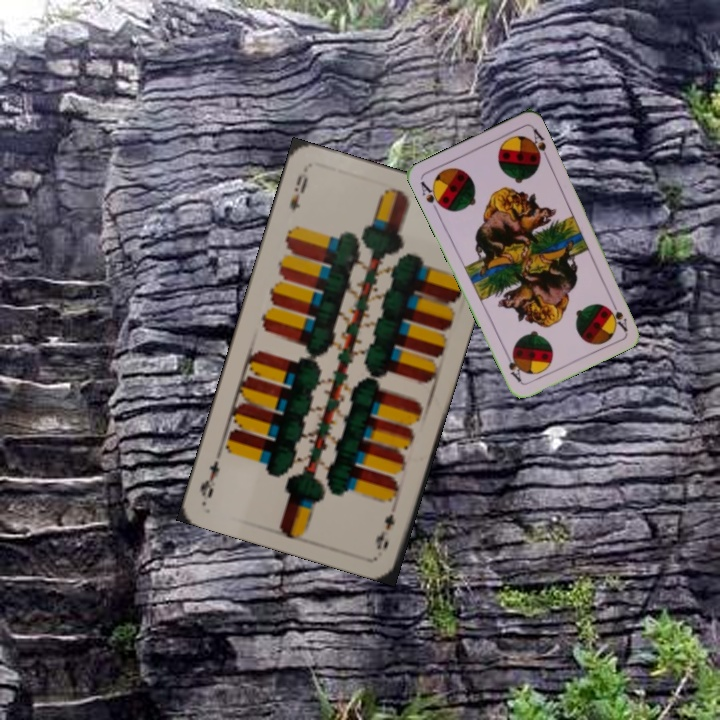E9: (285, 169, 311, 214), (371, 510, 397, 552)
SA: (416, 177, 446, 215), (606, 294, 630, 333)
